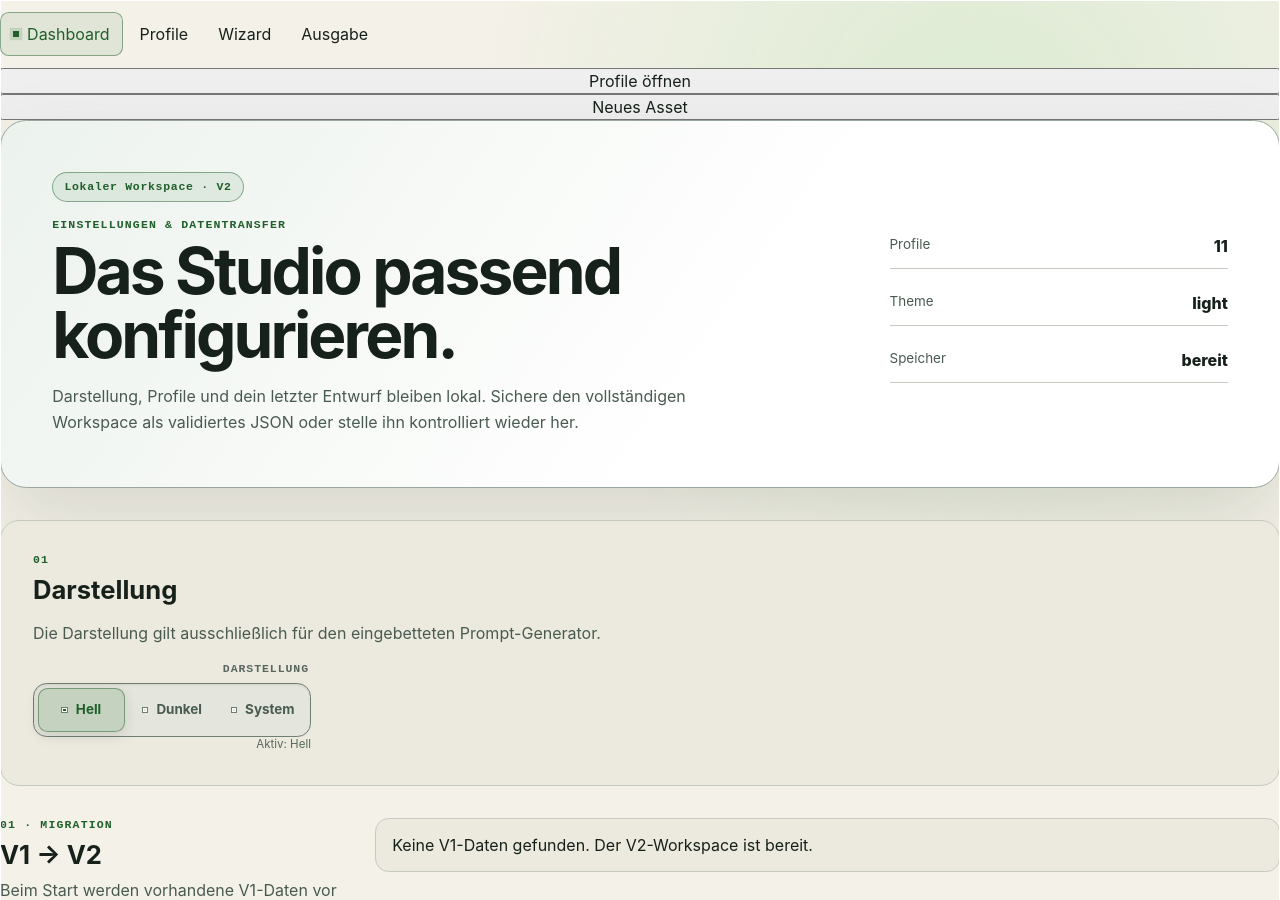
Test: settings workspace transfer › keeps a prompt theme for the session when persistence fails
The image size is (1280, 900).
Click the radio button labelled "Dunkel" at (179, 709), box x1=156 y1=701 x2=202 y2=717
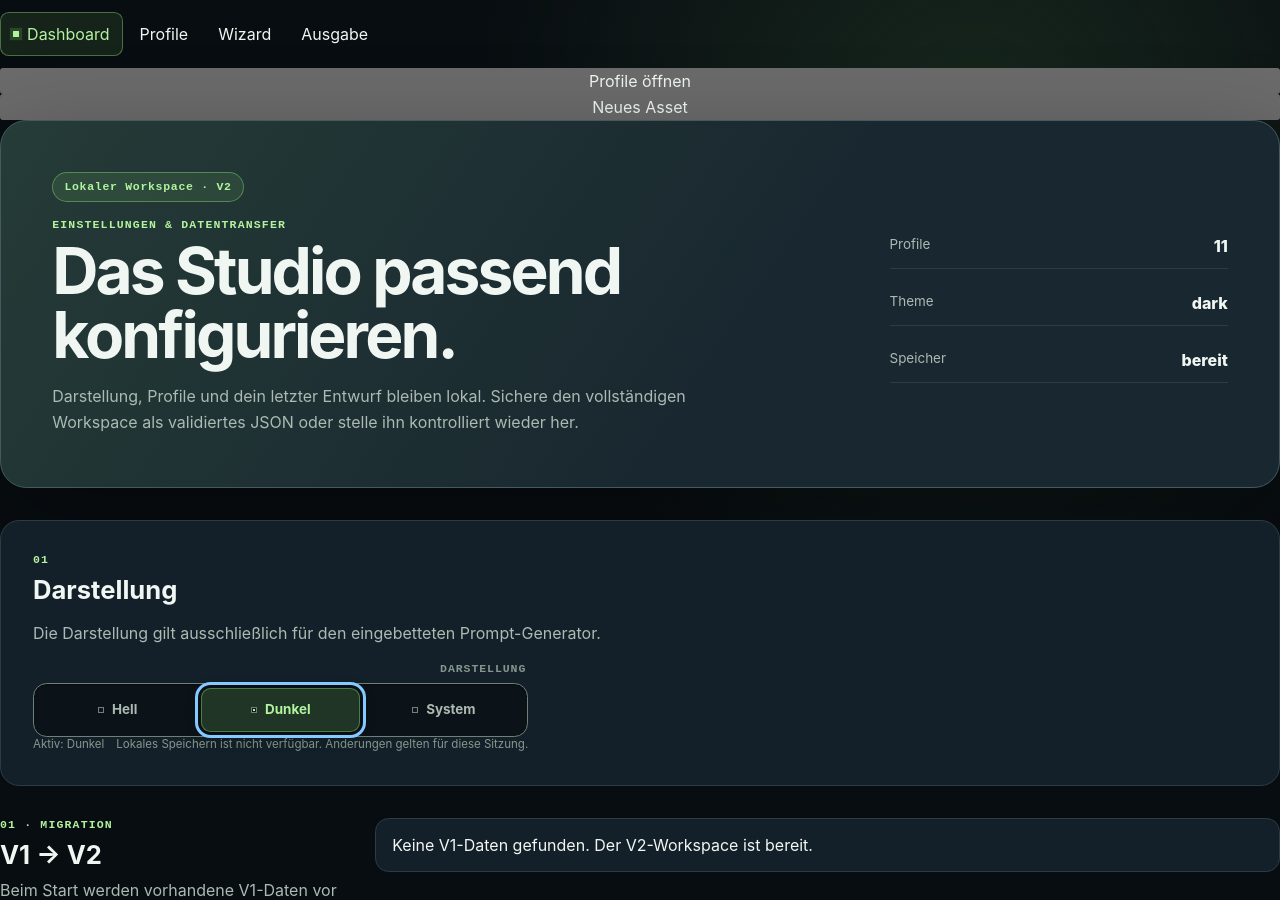
Expected: the radio button labelled "Dunkel" is checked, x1=201 y1=688 x2=360 y2=732
Expected: the text "Lokales Speichern ist nicht verfügbar. Änderungen gelten für diese Sitzung." is shown, x1=116 y1=737 x2=528 y2=753
